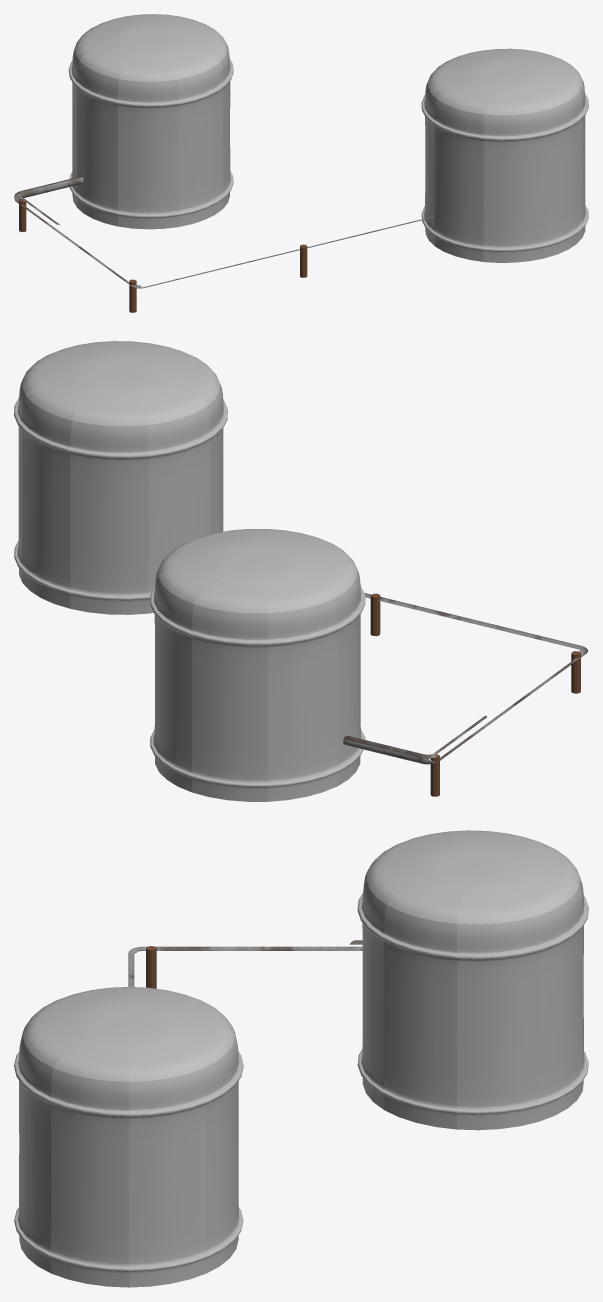
Rendered from roof_pipe_tank.fbx.
3 renders of one model, top to bottom at view 1: azimuth 30°, elevation 25°; view 2: azimuth 150°, elevation 25°; view 3: azimuth 270°, elevation 25°, orthographic. The views are drawn at different scales.
Visible parts, largest first — view 1: roofTank_2, roofTank_2.001, roof_pipe; view 2: roofTank_2.001, roofTank_2, roof_pipe; view 3: roofTank_2.001, roofTank_2, roof_pipe.
Boxes of the visible parts, x1,y1,x2,y2 form: roofTank_2: (421,48,588,262); roofTank_2.001: (68,14,233,229); roof_pipe: (14,176,434,312); roofTank_2.001: (150,529,365,801); roofTank_2: (14,341,227,614); roof_pipe: (343,593,587,796); roofTank_2.001: (357,830,588,1130); roofTank_2: (14,987,243,1287); roof_pipe: (128,940,362,988).
Size of the model in its own units: 822 by 280 by 663.
